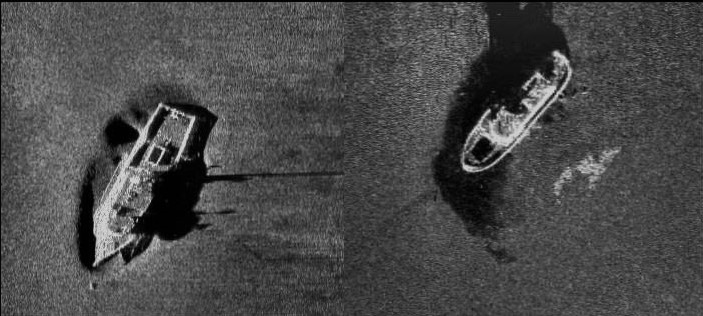ship: (90, 102, 198, 267), (457, 52, 576, 177)
